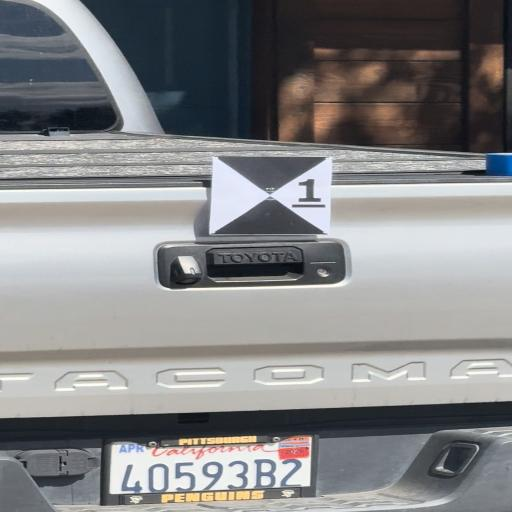target1: (213, 156, 329, 234)
